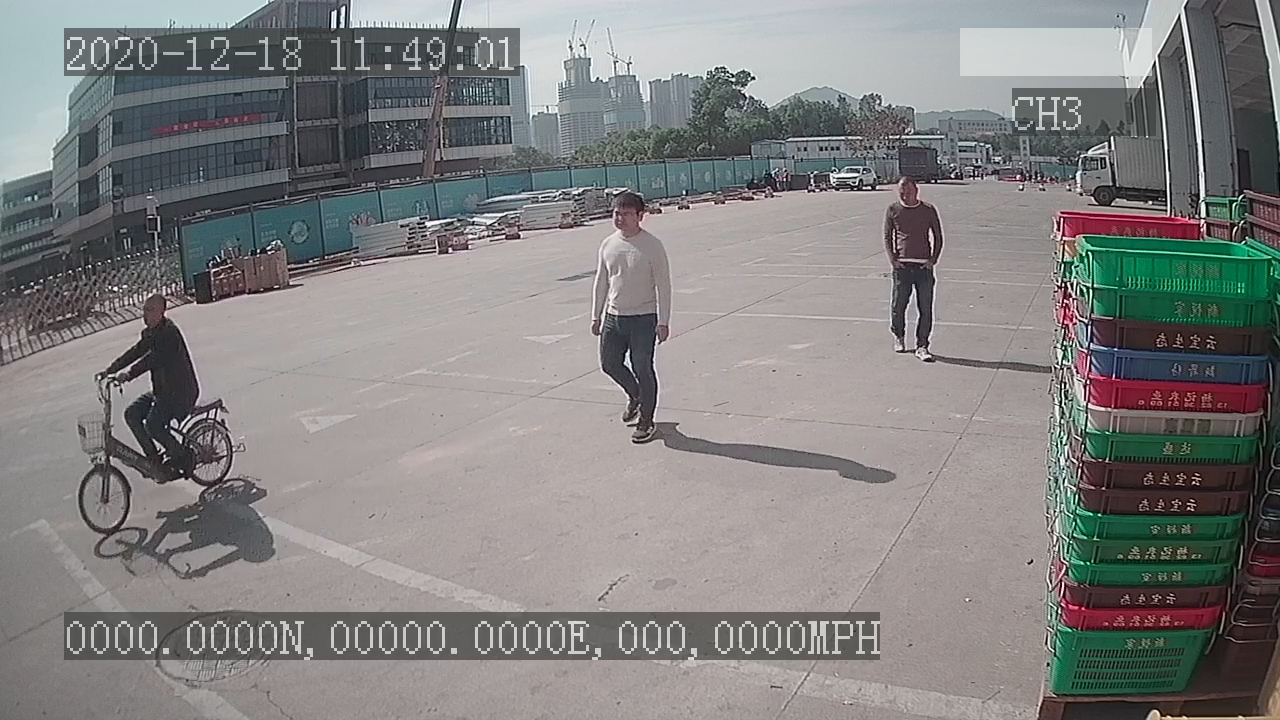person: (585, 186, 676, 449), (879, 174, 945, 365)
